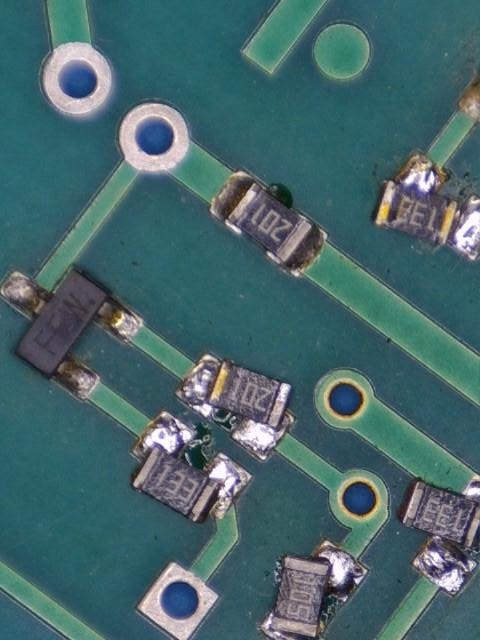pcb_defect: (129, 409, 253, 523), (173, 351, 296, 463), (370, 149, 480, 264), (259, 538, 370, 640), (400, 472, 480, 599)
